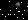person: (10, 4, 20, 16)
